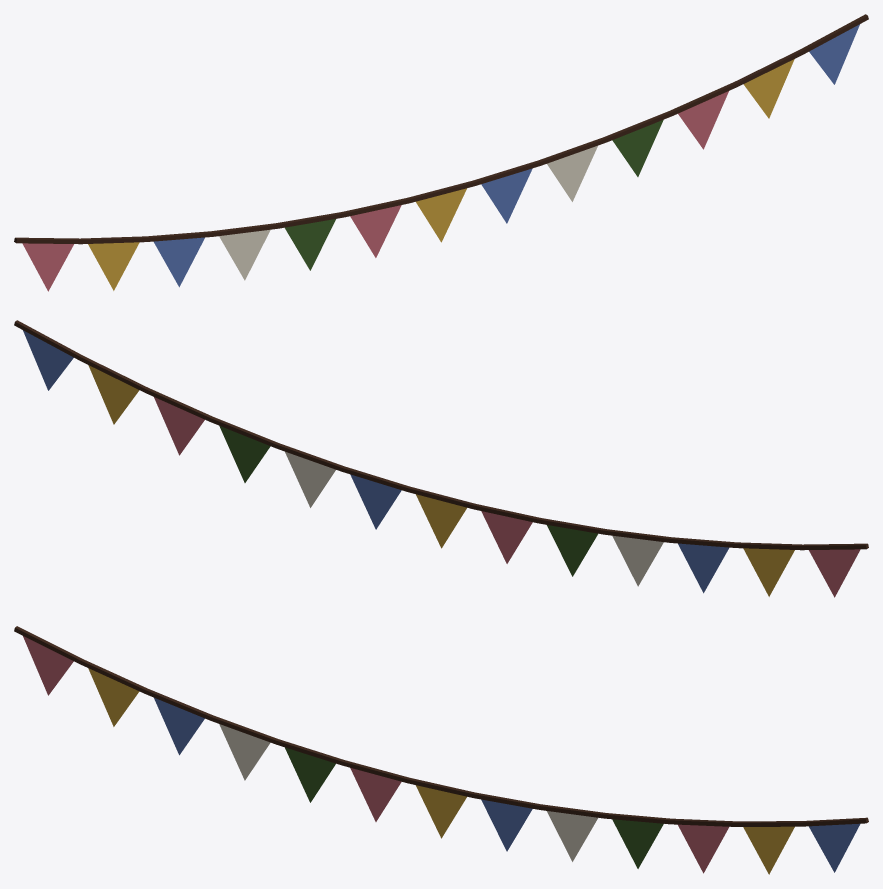
File: scene_bunting_1.glb
The picture shows the model from 3 angles, top to bottom: view 1: azimuth 30°, elevation 25°; view 2: azimuth 150°, elevation 25°; view 3: azimuth 330°, elevation 25°; orthographic projection.
Visible parts, largest first — view 1: scene_bunting_1; view 2: scene_bunting_1; view 3: scene_bunting_1.
Part boxes in pixels (x1,y1,x2,y2): scene_bunting_1: [14, 14, 868, 291]; scene_bunting_1: [14, 320, 868, 597]; scene_bunting_1: [14, 626, 868, 874].
Size of the model in its own units: 5.61 by 0.7797 by 0.025.
